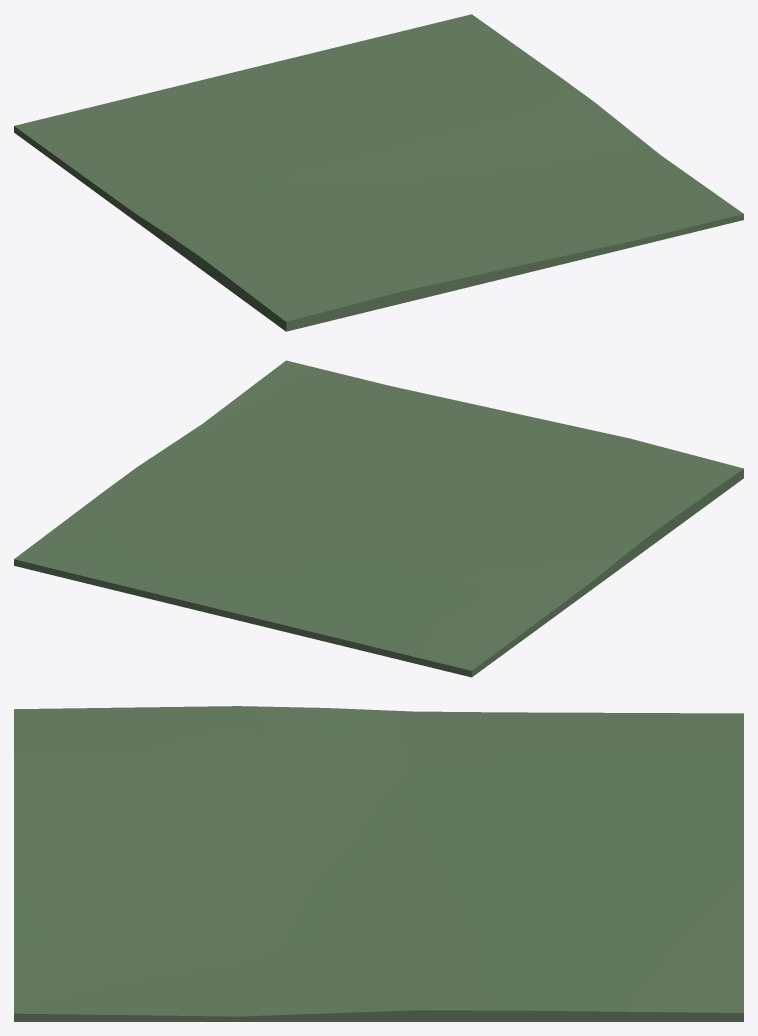
Rendered from plane_placeHolder.obj.
3 renders of one model, top to bottom at view 1: azimuth 30°, elevation 25°; view 2: azimuth 150°, elevation 25°; view 3: azimuth 270°, elevation 25°, orthographic. The views are drawn at different scales.
Parts seen in each view (by area): view 1: pCube1; view 2: pCube1; view 3: pCube1.
Boxes of the visible parts, bbox=[...] form: pCube1: bbox=[14, 14, 743, 331]; pCube1: bbox=[14, 360, 743, 677]; pCube1: bbox=[14, 706, 743, 1021].
Size of the model in its own units: 81.9 by 2.38 by 84.32.
